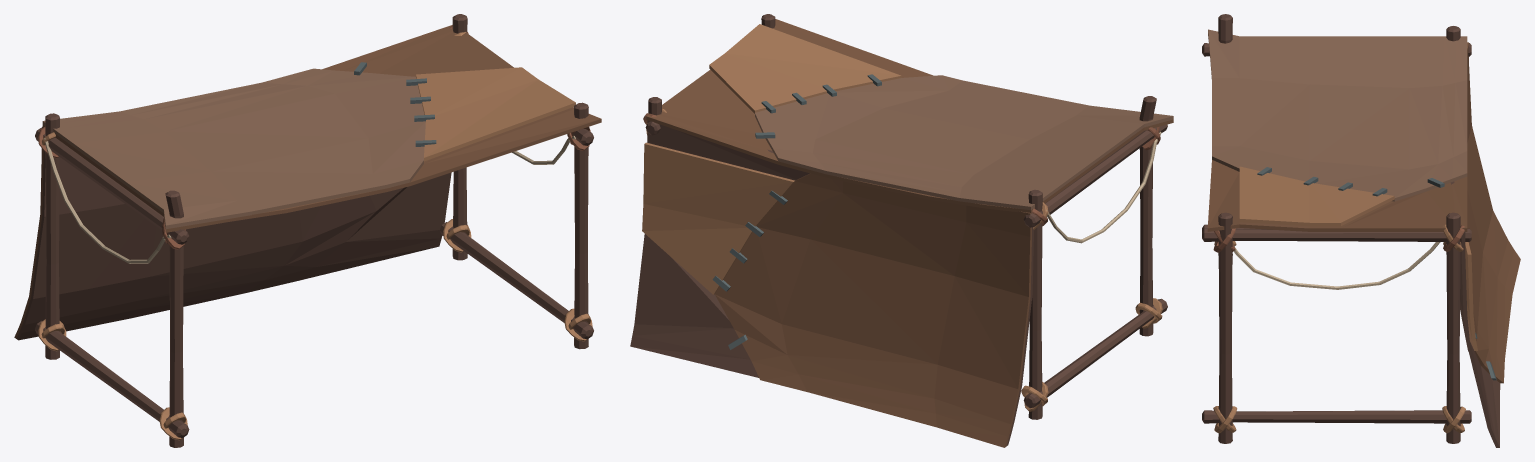
The model's file is SM_tent_storage.fbx.
The picture shows the model from 3 angles, left to right: view 1: azimuth 30°, elevation 25°; view 2: azimuth 150°, elevation 25°; view 3: azimuth 270°, elevation 25°; orthographic projection. The views are drawn at different scales.
Visible parts, largest first — view 1: tent_storage; view 2: tent_storage; view 3: tent_storage.
Part boxes in pixels (box(x1,y1,x2,y2)): tent_storage: box(14, 14, 601, 447); tent_storage: box(630, 14, 1173, 447); tent_storage: box(1202, 14, 1520, 447).
Bounding box in the file's own units: 370 × 211 × 250.
